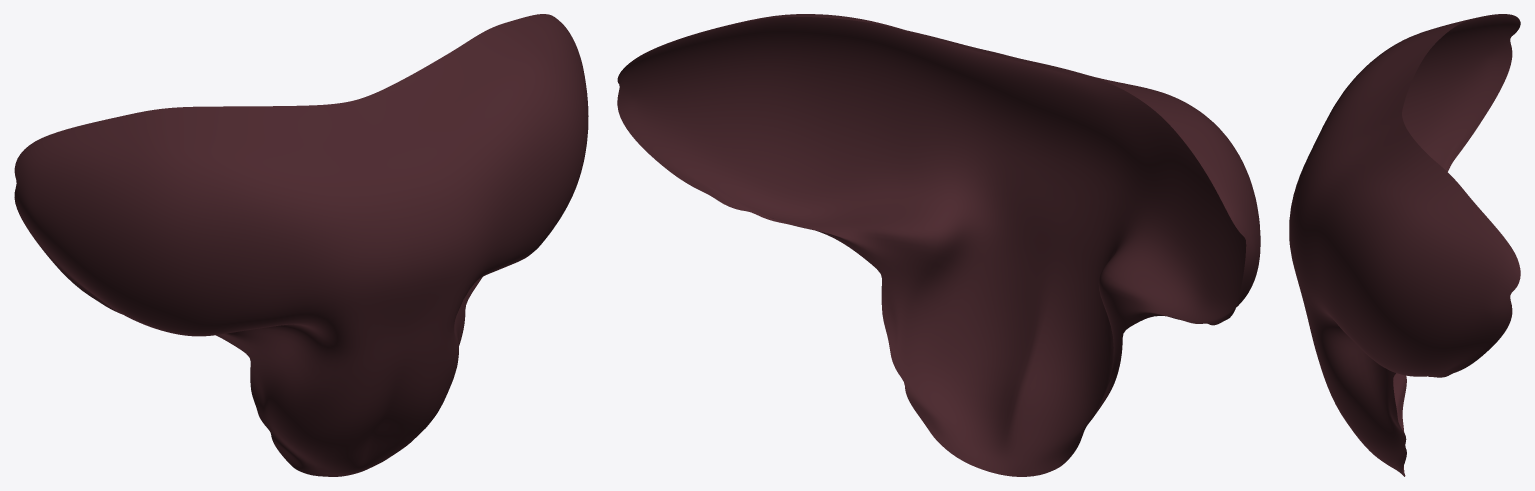
File: noseHighpoly.fbx
The picture shows the model from 3 angles, left to right: view 1: azimuth 30°, elevation 25°; view 2: azimuth 150°, elevation 25°; view 3: azimuth 270°, elevation 25°; orthographic projection. The views are drawn at different scales.
Visible parts, largest first — view 1: NoseHQ; view 2: NoseHQ; view 3: NoseHQ.
Part boxes in pixels (box(x1,y1,x2,y2)): NoseHQ: box(14, 14, 588, 476); NoseHQ: box(617, 14, 1260, 476); NoseHQ: box(1289, 14, 1520, 476).
Bounding box in the file's own units: 499 × 329 × 189.
